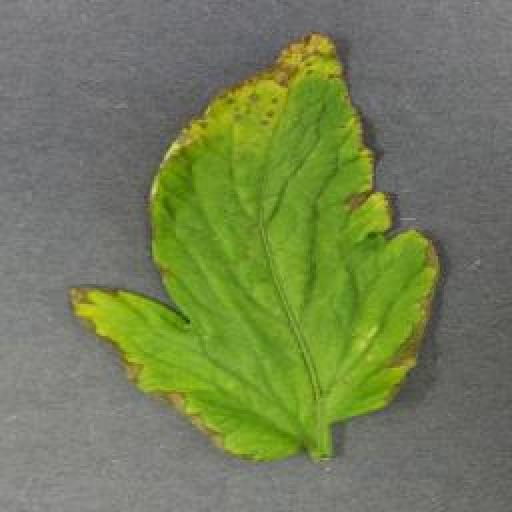Bacterial Spot: (64, 26, 444, 466)
